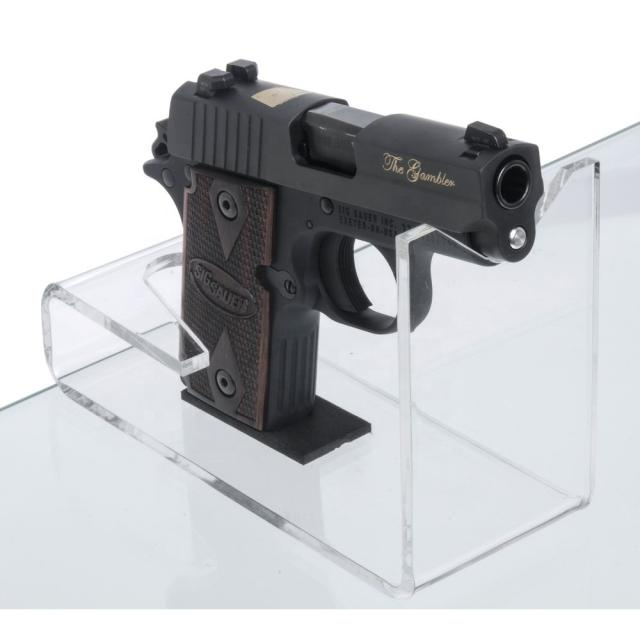HandGun: (143, 62, 542, 435)
